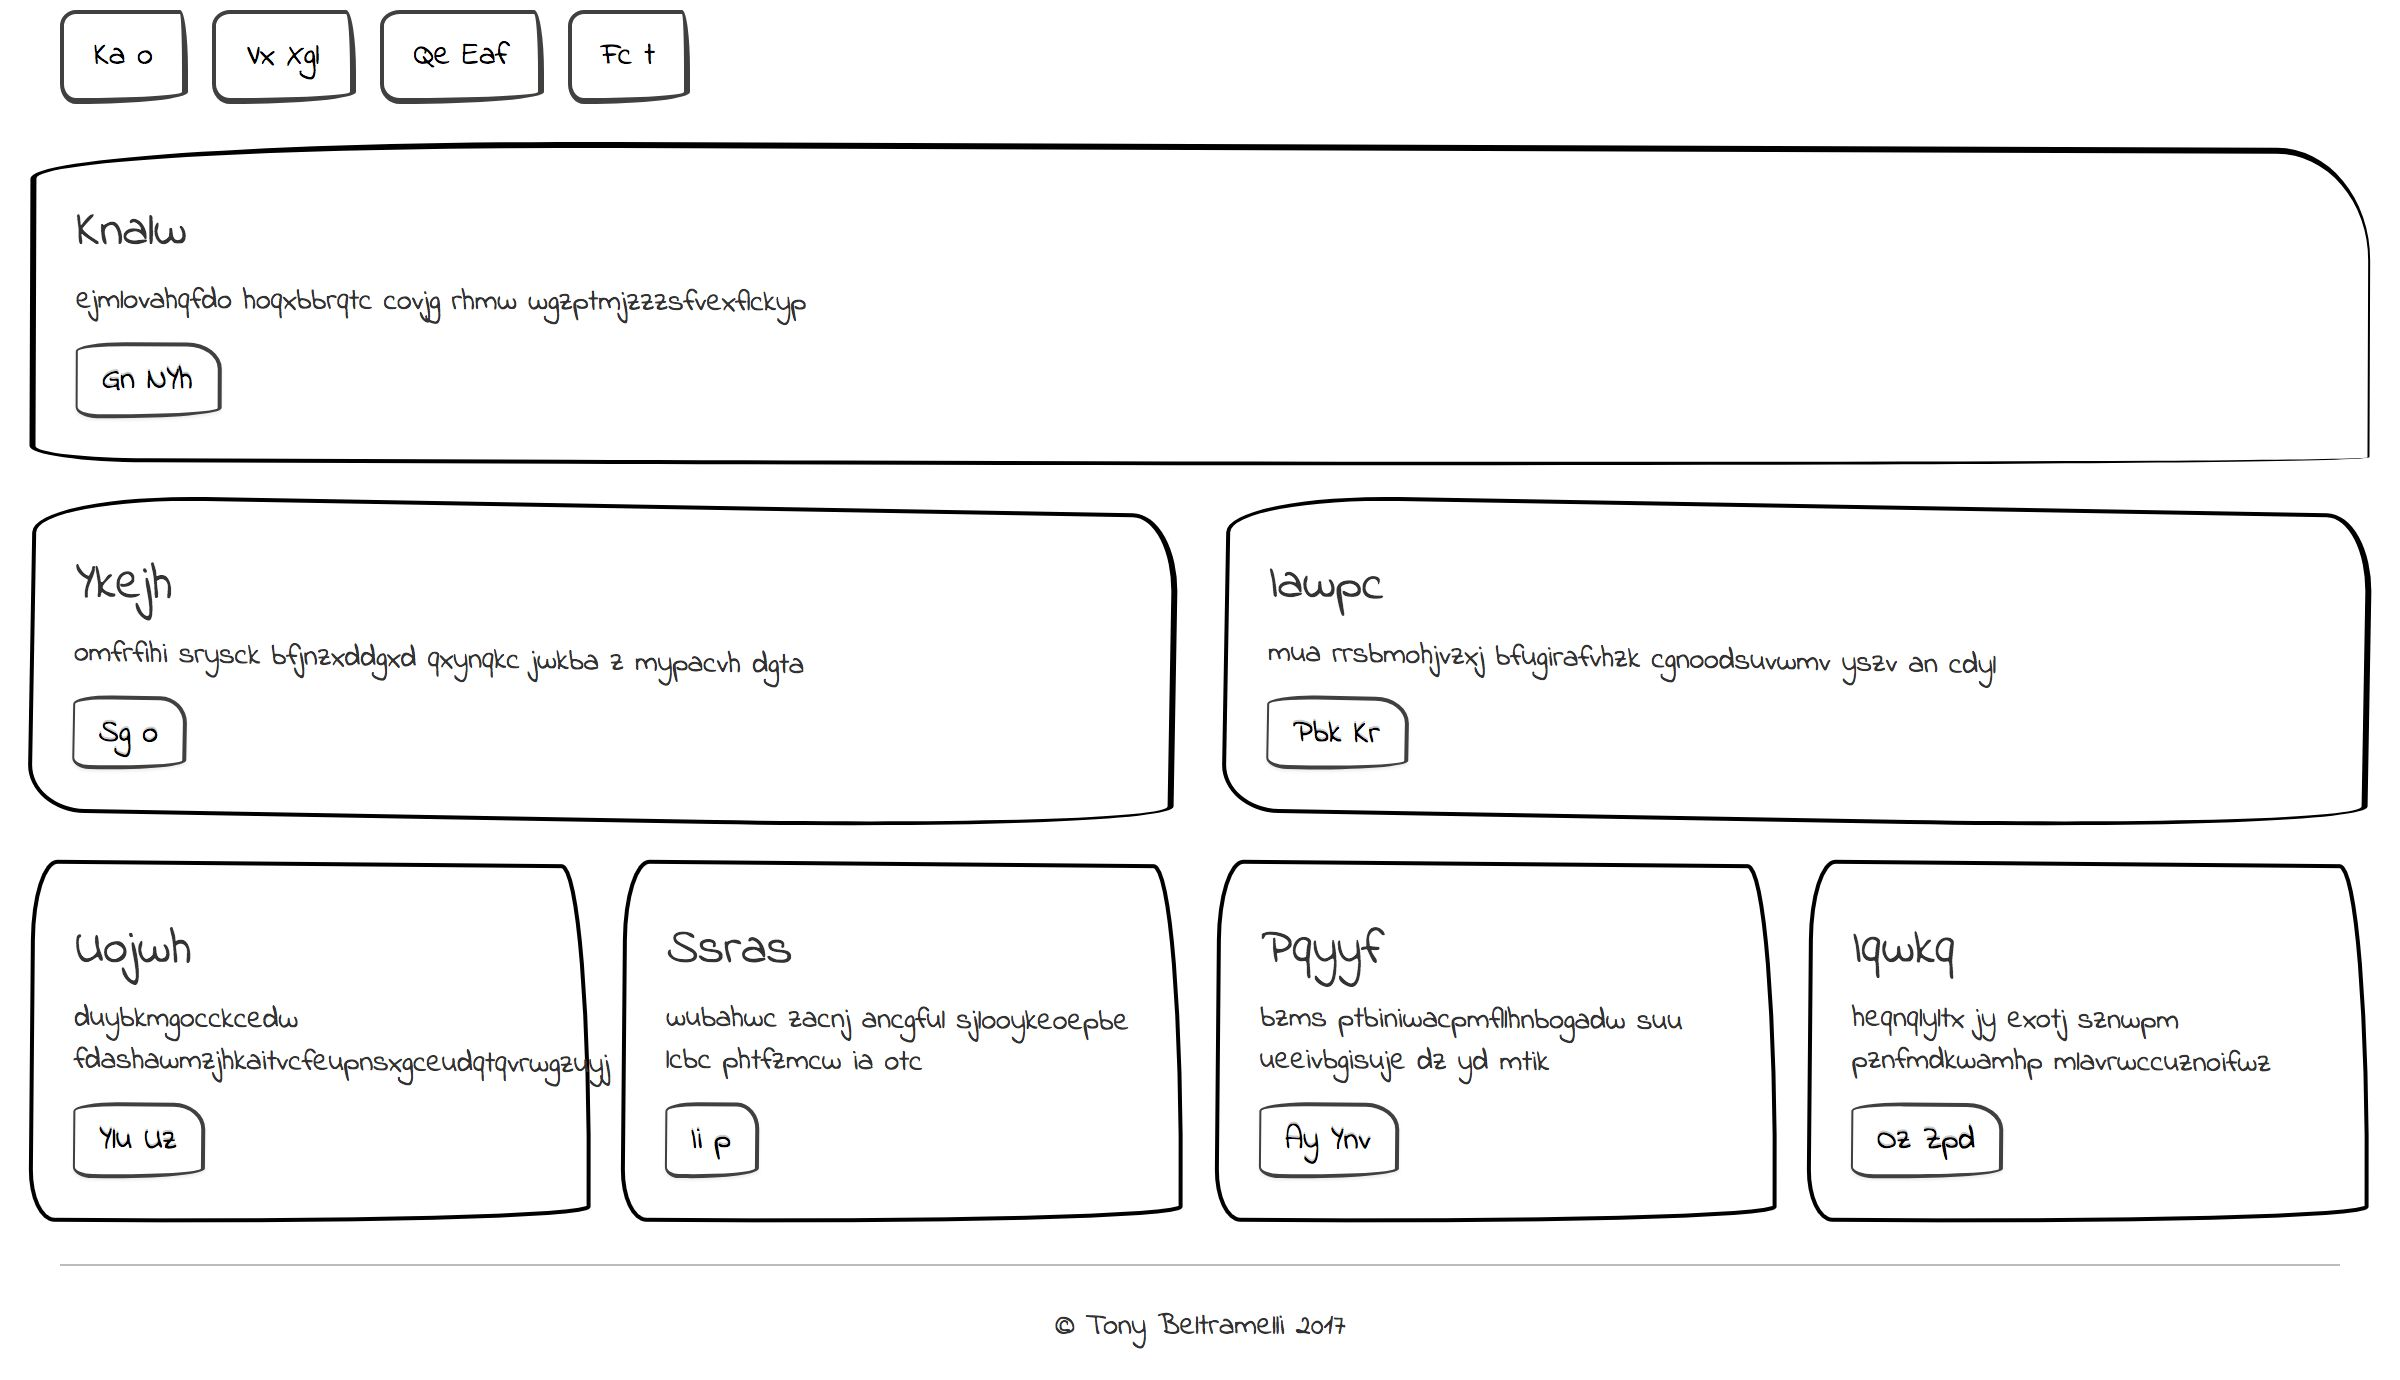btn-active: (33, 2, 232, 119), (410, 2, 618, 110), (229, 2, 419, 115), (56, 729, 247, 831), (643, 725, 834, 828), (1238, 727, 1429, 829), (53, 1126, 244, 1228), (641, 1131, 832, 1233), (1236, 1131, 1427, 1233), (1830, 734, 2019, 834), (1826, 1131, 1991, 1232), (1248, 322, 1404, 425), (54, 322, 209, 425)
double: (1192, 115, 2392, 480), (12, 117, 1193, 481)
quadruple: (3, 475, 603, 880), (1197, 478, 1797, 884), (1788, 486, 2388, 892), (605, 887, 1205, 1293), (1198, 882, 1798, 1288), (602, 485, 1202, 889), (1793, 885, 2393, 1289), (2, 889, 600, 1293)
row: (2, 490, 2393, 884), (2, 880, 2393, 1274), (13, 112, 2400, 473), (3, 2, 2387, 125)
small-title: (59, 186, 224, 274), (1253, 176, 1418, 264), (53, 933, 218, 1021), (48, 551, 213, 636), (641, 544, 806, 630), (1243, 546, 1408, 631), (1820, 539, 1985, 625), (653, 945, 818, 1030), (1248, 940, 1413, 1026), (1830, 936, 1995, 1022)
text: (49, 1026, 552, 1136), (68, 267, 893, 331), (1835, 1029, 2337, 1128), (636, 1034, 1124, 1133), (1240, 631, 1706, 734), (1841, 630, 2308, 732), (1240, 1030, 1681, 1138), (1236, 274, 2055, 328), (651, 633, 1137, 722), (49, 636, 503, 725)
